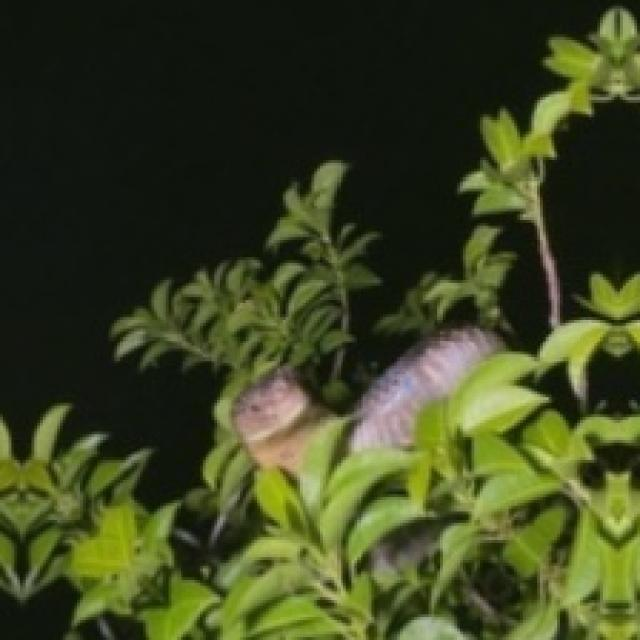king cobra: (349, 326, 500, 449), (231, 369, 329, 471)
